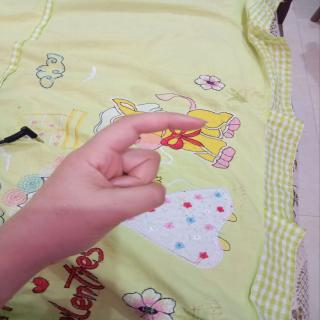RAA: (1, 104, 216, 261)
